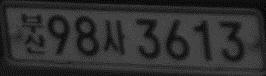1: (192, 19, 215, 61)
3: (218, 20, 245, 62), (135, 18, 161, 60)
6: (165, 18, 190, 60)
8: (74, 15, 99, 56)
9: (47, 14, 71, 54)
부산_V: (20, 12, 47, 55)
사: (102, 19, 126, 55)
